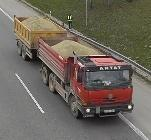Truck: (14, 15, 134, 120)
